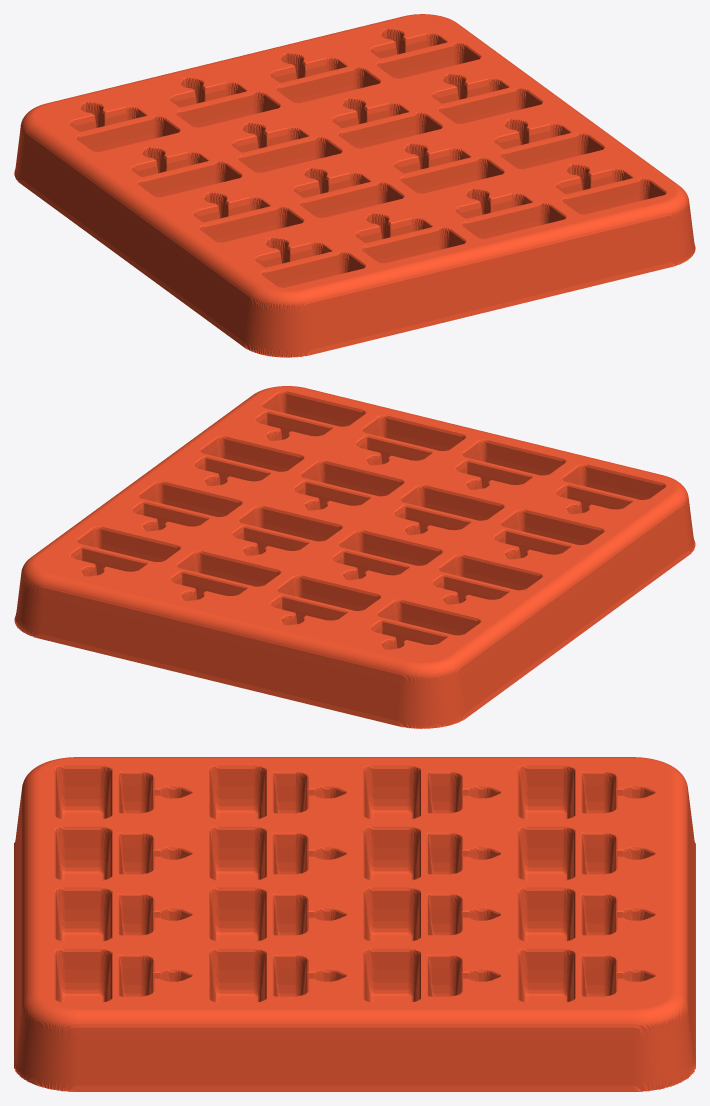
Rendered from mold.glb.
3 renders of one model, top to bottom at view 1: azimuth 30°, elevation 25°; view 2: azimuth 150°, elevation 25°; view 3: azimuth 270°, elevation 25°, orthographic. The views are drawn at different scales.
Visible parts, largest first — view 1: geometry_0; view 2: geometry_0; view 3: geometry_0.
Part boxes in pixels (x1,y1,x2,y2): geometry_0: (14, 14, 695, 357); geometry_0: (14, 386, 695, 728); geometry_0: (14, 757, 695, 1091).
Size of the model in its own units: 0.0916 by 0.0114 by 0.0972.
